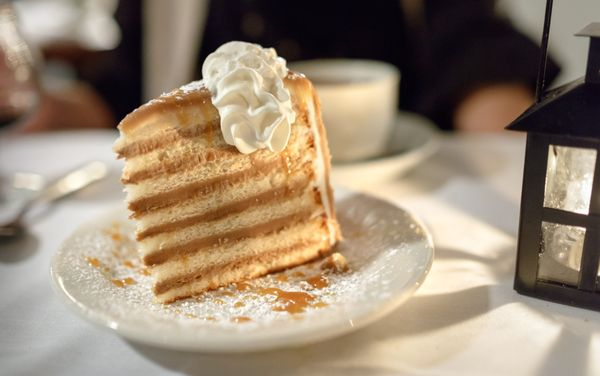pizza: (285, 58, 401, 163)
salad: (0, 160, 111, 236)
